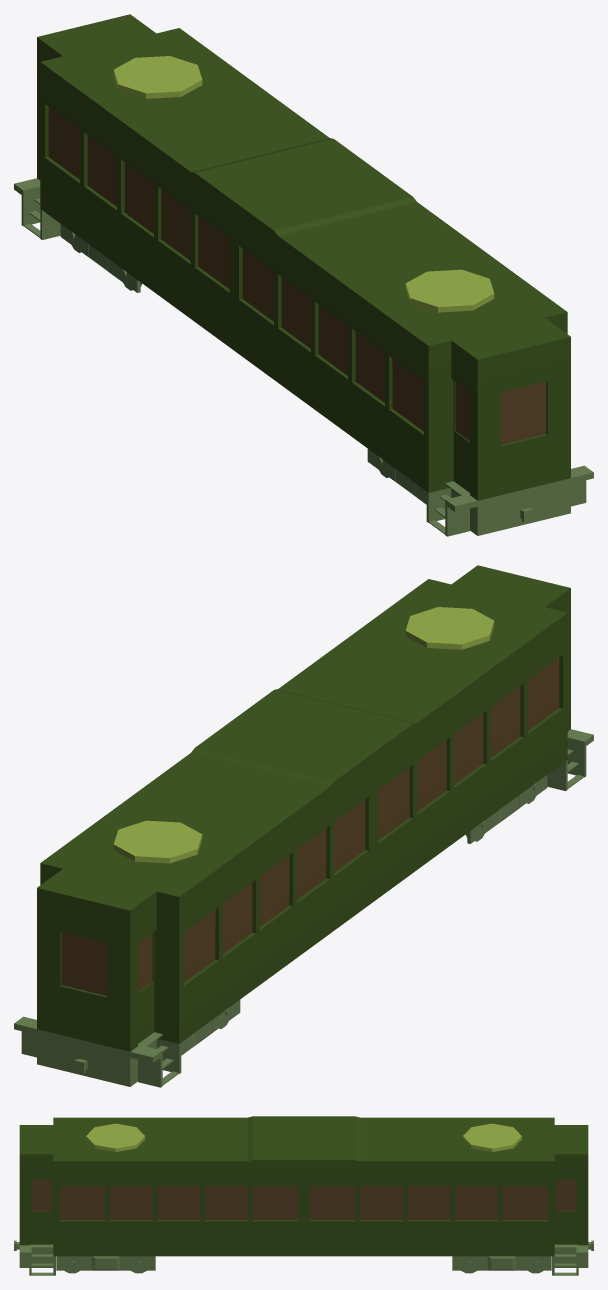
Rendered from Train_04.fbx.
3 views of the same model, one above another, from view 1: azimuth 30°, elevation 25°; view 2: azimuth 150°, elevation 25°; view 3: azimuth 270°, elevation 25° (orthographic). The views are drawn at different scales.
Visible parts, largest first — view 1: Train_04; view 2: Train_04; view 3: Train_04.
Boxes of the visible parts, box(x1,y1,x2,y2) form: Train_04: box(14, 14, 593, 536); Train_04: box(14, 565, 593, 1087); Train_04: box(14, 1116, 593, 1275).
Bounding box in the file's own units: 3.5 × 4.55 × 19.58.
